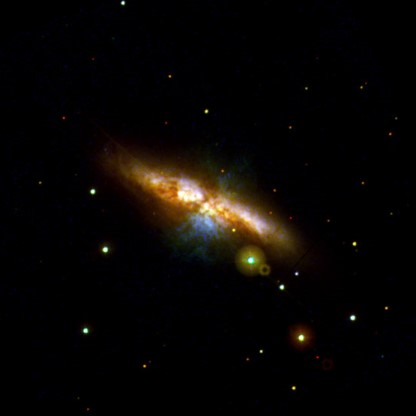Messier 82: (105, 135, 308, 280)
